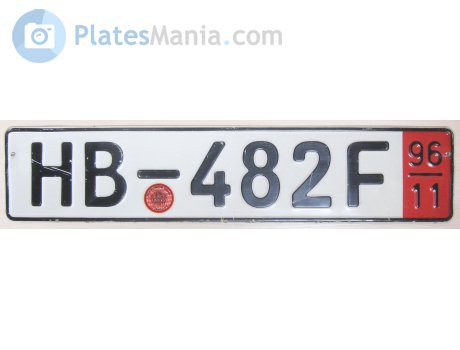License Plates: (21, 139, 392, 210)
